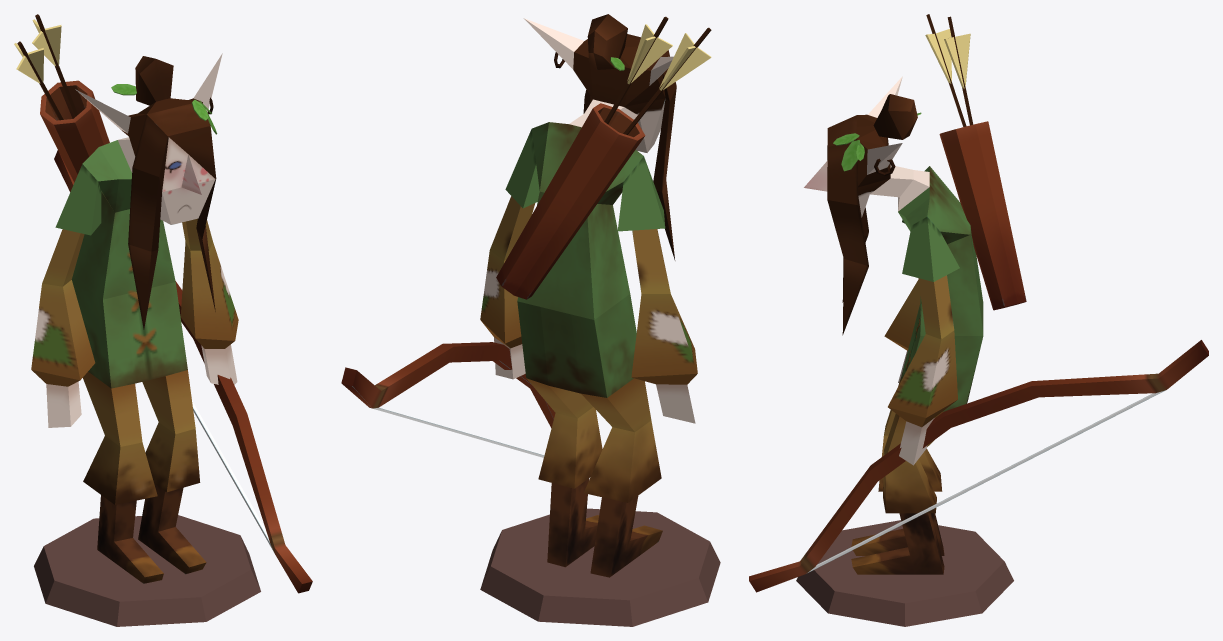
The model's file is Asset_Pawn_Emo.fbx.
3 renders of one model, left to right at view 1: azimuth 30°, elevation 25°; view 2: azimuth 150°, elevation 25°; view 3: azimuth 270°, elevation 25°, orthographic. The views are drawn at different scales.
Visible parts, largest first — view 1: Emo_body, Emo_stand, Emo_Arc, Emo_Garkoi, Emo_fleche, Emo_fleche1, Emo_feuille; view 2: Emo_body, Emo_stand, Emo_Garkoi, Emo_Arc, Emo_fleche1, Emo_fleche; view 3: Emo_body, Emo_stand, Emo_Arc, Emo_Garkoi, Emo_fleche, Emo_fleche1, Emo_feuille.
Boxes of the visible parts, bbox=[...] form: Emo_body: bbox=[31, 53, 238, 583]; Emo_stand: bbox=[34, 515, 260, 626]; Emo_Arc: bbox=[54, 150, 312, 593]; Emo_Garkoi: bbox=[40, 80, 109, 182]; Emo_fleche: bbox=[32, 14, 77, 117]; Emo_fleche1: bbox=[14, 41, 63, 120]; Emo_feuille: bbox=[111, 84, 217, 134]; Emo_body: bbox=[480, 14, 697, 577]; Emo_stand: bbox=[480, 508, 720, 626]; Emo_Garkoi: bbox=[496, 103, 645, 299]; Emo_Arc: bbox=[341, 342, 555, 457]; Emo_fleche1: bbox=[623, 27, 711, 134]; Emo_fleche: bbox=[604, 16, 672, 124]; Emo_body: bbox=[804, 76, 983, 574]; Emo_stand: bbox=[796, 520, 1013, 626]; Emo_Arc: bbox=[749, 340, 1208, 592]; Emo_Garkoi: bbox=[939, 121, 1026, 310]; Emo_fleche: bbox=[944, 16, 973, 125]; Emo_fleche1: bbox=[925, 14, 966, 126]; Emo_feuille: bbox=[833, 112, 921, 171].
Size of the model in its own units: 28.44 by 69.95 by 55.42.
2 materials, 2 textured.
